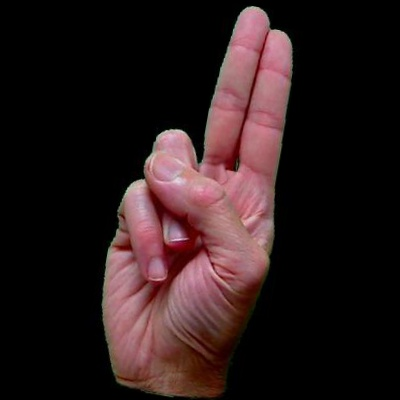u: (1, 4, 400, 400)
